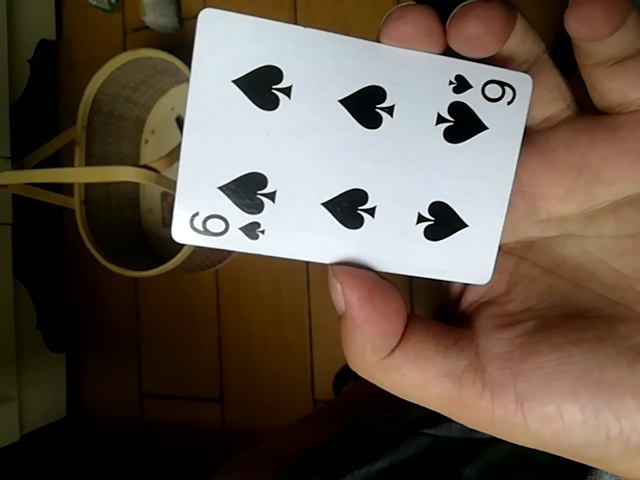ht 6: (171, 11, 532, 293)
